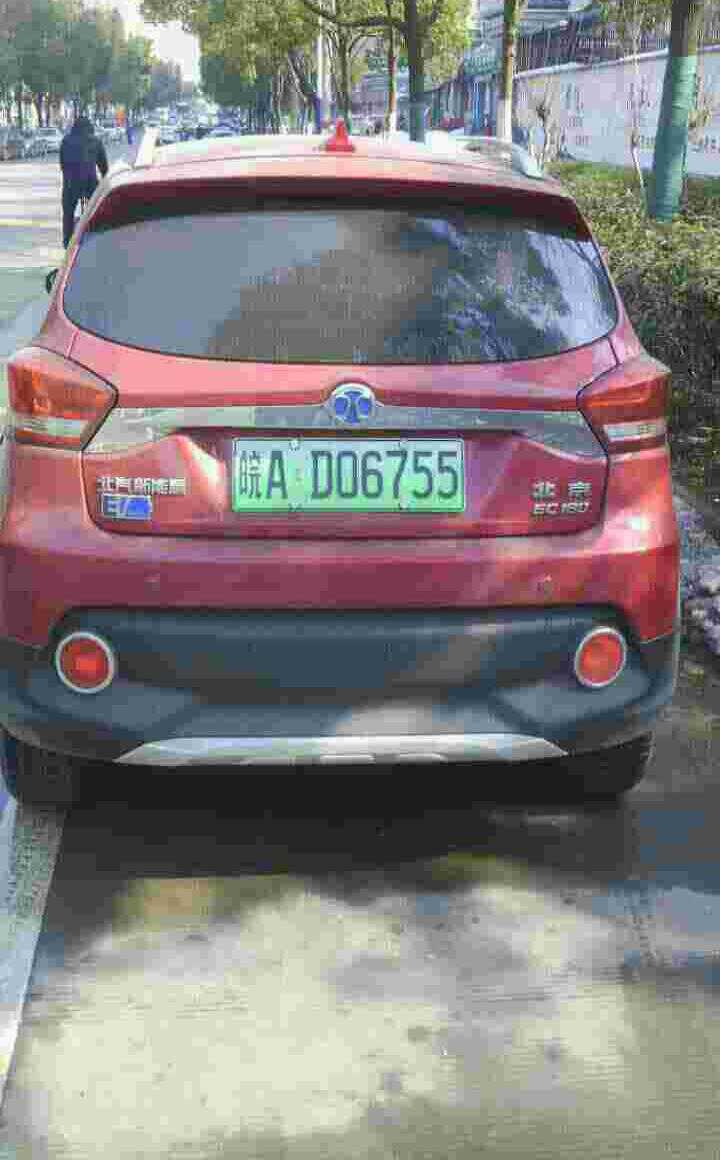car: (231, 443, 470, 511)
